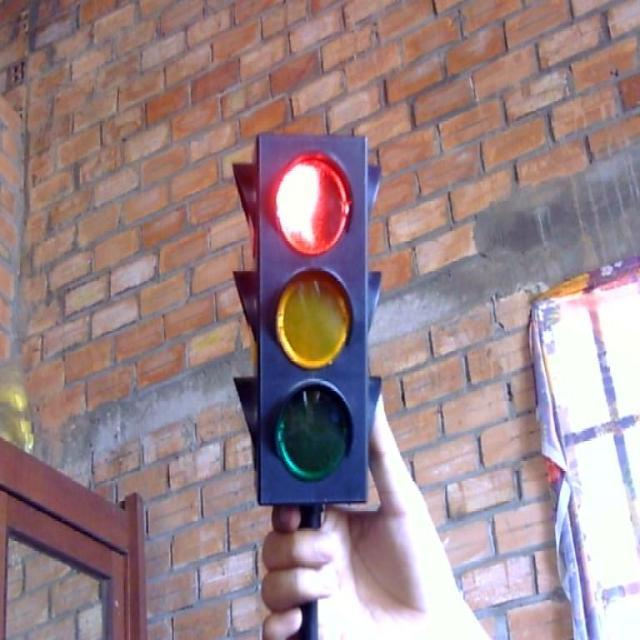red light: (262, 142, 359, 260)
